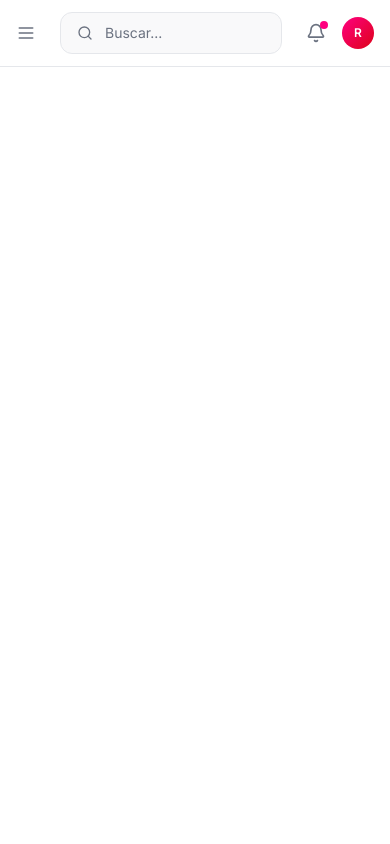
it: Header › should open mobile menu when hamburger is clicked
Click the button named "Abrir menu" at [26, 33], box [8,15,44,51]
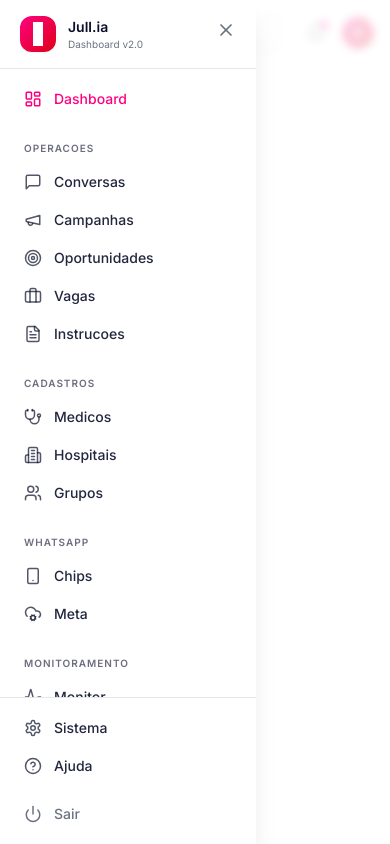
Expected: the text "Sair" is shown, [54,804,80,824]
